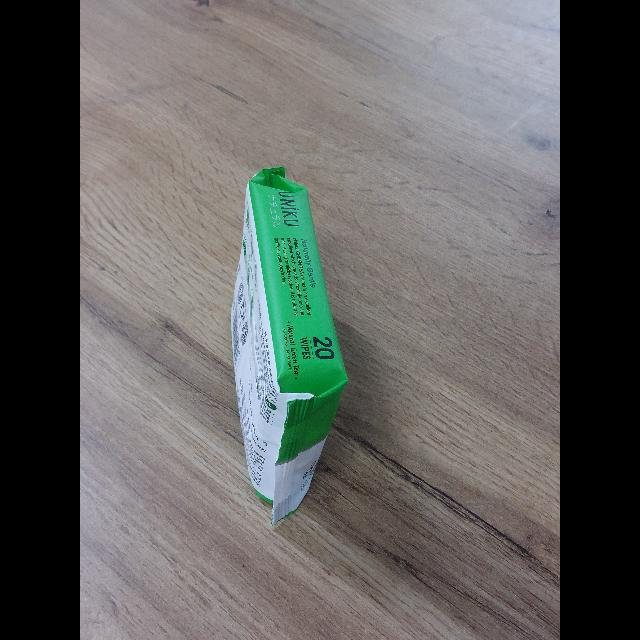khan_giay: (231, 167, 348, 527)
